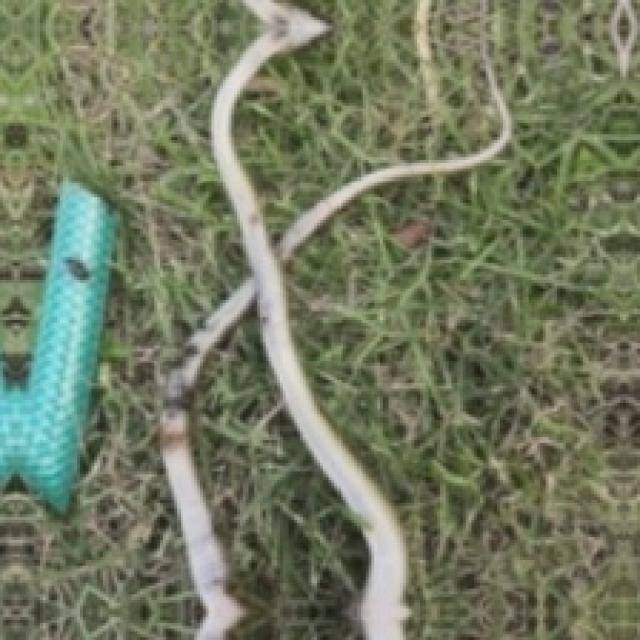reddish rat snake: (160, 0, 509, 637)
